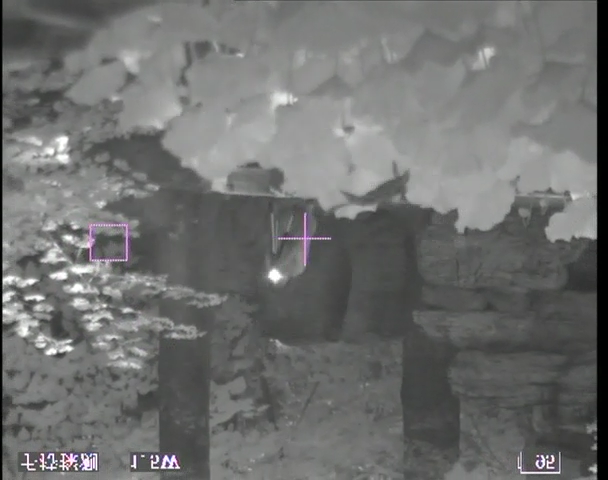my: (267, 267, 283, 285)
